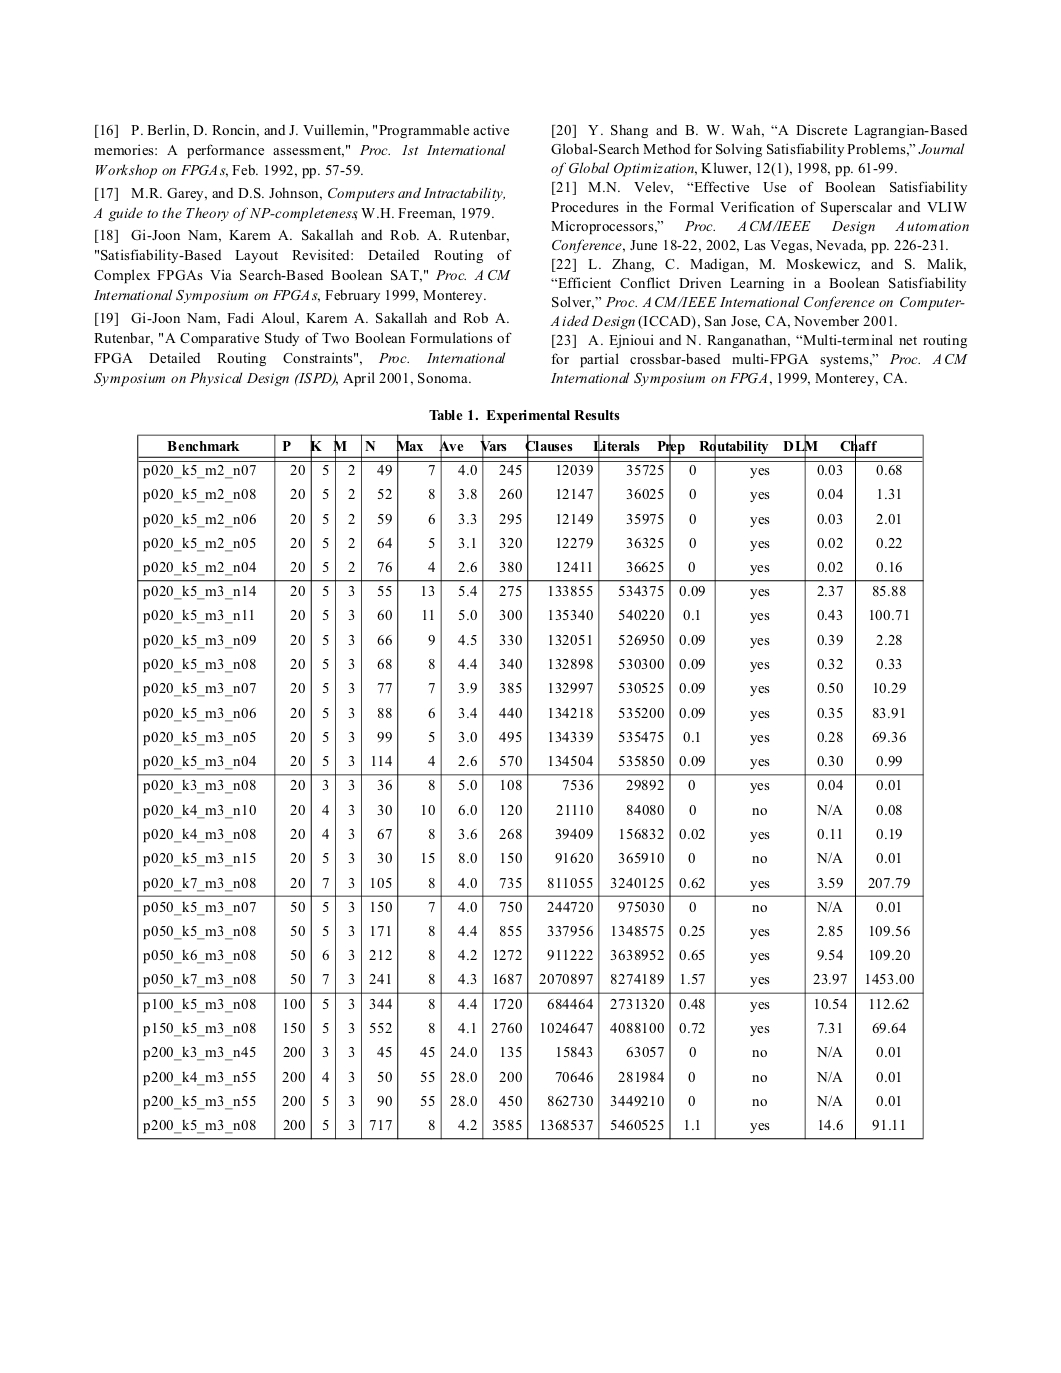Table: (137, 432, 923, 1140)
